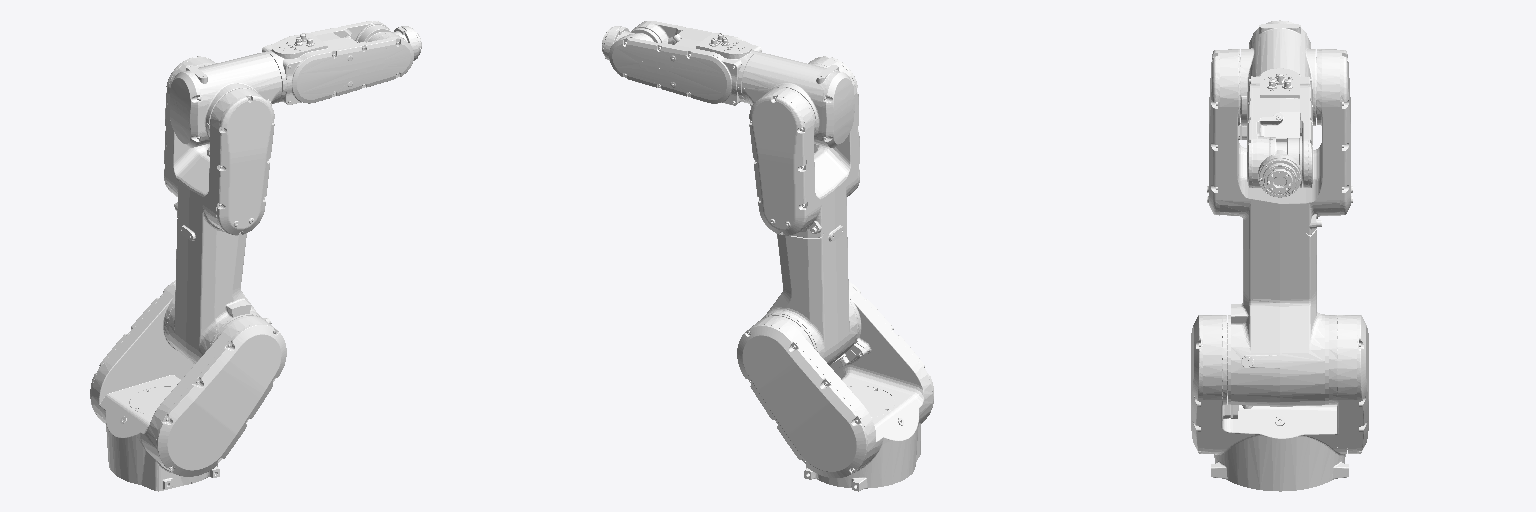
The robot description file, URDF, robot "IRB 1300-1150 URDF":
<?xml version="1.0" encoding="utf-8"?>
<!-- This URDF was automatically created by SolidWorks to URDF Exporter! Originally created by [author] ([email redacted]) 
     Commit Version: 1.6.0-4-g7f85cfe  Build Version: 1.6.7995.38578
     For more information, please see http://wiki.ros.org/sw_urdf_exporter -->
<robot
  name="IRB 1300-1150 URDF">
  <link
    name="base_link">
    <inertial>
      <origin
        xyz="-0.02201 -0.00063839 0.1276"
        rpy="0 0 0" />
      <mass
        value="13.182" />
      <inertia
        ixx="0.11154"
        ixy="-0.00041958"
        ixz="-0.0029321"
        iyy="0.12833"
        iyz="-3.0692E-05"
        izz="0.10399" />
    </inertial>
    <visual>
      <origin
        xyz="0 0 0"
        rpy="0 0 0" />
      <geometry>
        <mesh
          filename="package://IRB 1300-1150 URDF/meshes/base_link.STL" />
      </geometry>
      <material
        name="">
        <color
          rgba="1 1 1 1" />
      </material>
    </visual>
    <collision>
      <origin
        xyz="0 0 0"
        rpy="0 0 0" />
      <geometry>
        <mesh
          filename="package://IRB 1300-1150 URDF/meshes/base_link.STL" />
      </geometry>
    </collision>
  </link>
  <link
    name="Link1">
    <inertial>
      <origin
        xyz="0.0379140465011304 -0.00077346865336323 0.145882231183446"
        rpy="0 0 0" />
      <mass
        value="16.3325331099999" />
      <inertia
        ixx="0.174362024179828"
        ixy="0.0183368936461501"
        ixz="-0.0552544146231136"
        iyy="0.208069036216912"
        iyz="0.0360494323577949"
        izz="0.165549084912184" />
    </inertial>
    <visual>
      <origin
        xyz="0 0 0"
        rpy="0 0 0" />
      <geometry>
        <mesh
          filename="package://IRB 1300-1150 URDF/meshes/Link1.STL" />
      </geometry>
      <material
        name="">
        <color
          rgba="1 1 1 1" />
      </material>
    </visual>
    <collision>
      <origin
        xyz="0 0 0"
        rpy="0 0 0" />
      <geometry>
        <mesh
          filename="package://IRB 1300-1150 URDF/meshes/Link1.STL" />
      </geometry>
    </collision>
  </link>
  <joint
    name="Joint1"
    type="revolute">
    <origin
      xyz="0 0 0.254"
      rpy="0 0 0" />
    <parent
      link="base_link" />
    <child
      link="Link1" />
    <axis
      xyz="0 0 1" />
    <limit
      lower="-3.1416"
      upper="3.1416"
      effort="1"
      velocity="1" />
  </joint>
  <link
    name="Link2">
    <inertial>
      <origin
        xyz="-0.010943302471405 -0.000823452736931489 0.244958725841501"
        rpy="0 0 0" />
      <mass
        value="15.4405289883218" />
      <inertia
        ixx="0.454189406801351"
        ixy="0.000833807793902255"
        ixz="0.00519621446900202"
        iyy="0.446840533249867"
        iyz="0.0465559640262711"
        izz="0.0564311207928579" />
    </inertial>
    <visual>
      <origin
        xyz="0 0 0"
        rpy="0 0 0" />
      <geometry>
        <mesh
          filename="package://IRB 1300-1150 URDF/meshes/Link2.STL" />
      </geometry>
      <material
        name="">
        <color
          rgba="1 1 1 1" />
      </material>
    </visual>
    <collision>
      <origin
        xyz="0 0 0"
        rpy="0 0 0" />
      <geometry>
        <mesh
          filename="package://IRB 1300-1150 URDF/meshes/Link2.STL" />
      </geometry>
    </collision>
  </link>
  <joint
    name="Joint2"
    type="revolute">
    <origin
      xyz="0.15 0 0.29"
      rpy="0 0 0" />
    <parent
      link="Link1" />
    <child
      link="Link2" />
    <axis
      xyz="0 1 0" />
    <limit
      lower="-1.6581"
      upper="2.7053"
      effort="1"
      velocity="1" />
  </joint>
  <link
    name="Link3">
    <inertial>
      <origin
        xyz="0.00583162917002927 -0.00131958947797208 0.0114105778753493"
        rpy="0 0 0" />
      <mass
        value="4.41745625966426" />
      <inertia
        ixx="0.0147798858809225"
        ixy="-5.10577958981008E-05"
        ixz="-0.00147588390166233"
        iyy="0.0217907531368722"
        iyz="-0.000100030526636097"
        izz="0.0184719400306652" />
    </inertial>
    <visual>
      <origin
        xyz="0 0 0"
        rpy="0 0 0" />
      <geometry>
        <mesh
          filename="package://IRB 1300-1150 URDF/meshes/Link3.STL" />
      </geometry>
      <material
        name="">
        <color
          rgba="1 1 1 1" />
      </material>
    </visual>
    <collision>
      <origin
        xyz="0 0 0"
        rpy="0 0 0" />
      <geometry>
        <mesh
          filename="package://IRB 1300-1150 URDF/meshes/Link3.STL" />
      </geometry>
    </collision>
  </link>
  <joint
    name="Joint3"
    type="revolute">
    <origin
      xyz="0 0 0.575"
      rpy="0 0 0" />
    <parent
      link="Link2" />
    <child
      link="Link3" />
    <axis
      xyz="0 1 0" />
    <limit
      lower="-3.6652"
      upper="1.1345"
      effort="1"
      velocity="1" />
  </joint>
  <link
    name="Link4">
    <inertial>
      <origin
        xyz="0.140260635359611 -0.00136562560352289 0.00129646301386632"
        rpy="0 0 0" />
      <mass
        value="3.69431402699864" />
      <inertia
        ixx="0.00541702840019788"
        ixy="0.00158652277591609"
        ixz="8.51527721227943E-05"
        iyy="0.0298154184956188"
        iyz="-2.11291150182165E-05"
        izz="0.0280131784820624" />
    </inertial>
    <visual>
      <origin
        xyz="0 0 0"
        rpy="0 0 0" />
      <geometry>
        <mesh
          filename="package://IRB 1300-1150 URDF/meshes/Link4.STL" />
      </geometry>
      <material
        name="">
        <color
          rgba="1 1 1 1" />
      </material>
    </visual>
    <collision>
      <origin
        xyz="0 0 0"
        rpy="0 0 0" />
      <geometry>
        <mesh
          filename="package://IRB 1300-1150 URDF/meshes/Link4.STL" />
      </geometry>
    </collision>
  </link>
  <joint
    name="Joint4"
    type="revolute">
    <origin
      xyz="0.128 0 0.04"
      rpy="0 0 0" />
    <parent
      link="Link3" />
    <child
      link="Link4" />
    <axis
      xyz="1 0 0" />
    <limit
      lower="-4.0143"
      upper="4.0143"
      effort="1"
      velocity="1" />
  </joint>
  <link
    name="Link5">
    <inertial>
      <origin
        xyz="0.0204854339056124 0.00887681892988258 5.81633089897782E-05"
        rpy="0 0 0" />
      <mass
        value="0.585190237279786" />
      <inertia
        ixx="0.000493350438723821"
        ixy="6.25796891964945E-05"
        ixz="1.86941748612868E-06"
        iyy="0.000782731233621633"
        iyz="8.97144627802968E-08"
        izz="0.000725967580946081" />
    </inertial>
    <visual>
      <origin
        xyz="0 0 0"
        rpy="0 0 0" />
      <geometry>
        <mesh
          filename="package://IRB 1300-1150 URDF/meshes/Link5.STL" />
      </geometry>
      <material
        name="">
        <color
          rgba="1 1 1 1" />
      </material>
    </visual>
    <collision>
      <origin
        xyz="0 0 0"
        rpy="0 0 0" />
      <geometry>
        <mesh
          filename="package://IRB 1300-1150 URDF/meshes/Link5.STL" />
      </geometry>
    </collision>
  </link>
  <joint
    name="Joint5"
    type="revolute">
    <origin
      xyz="0.297 0 0"
      rpy="0 0 0" />
    <parent
      link="Link4" />
    <child
      link="Link5" />
    <axis
      xyz="0 1 0" />
    <limit
      lower="-2.2689"
      upper="2.2689"
      effort="1"
      velocity="1" />
  </joint>
  <link
    name="Link6">
    <inertial>
      <origin
        xyz="-0.0030397653842329 0.000141388062541223 7.719029081521E-05"
        rpy="0 0 0" />
      <mass
        value="0.00790032012561492" />
      <inertia
        ixx="3.06775217763411E-06"
        ixy="-4.44183698672834E-11"
        ixz="-2.42500450595015E-11"
        iyy="1.59968258334013E-06"
        iyz="-1.16947500504224E-08"
        izz="1.51446478201562E-06" />
    </inertial>
    <visual>
      <origin
        xyz="0 0 0"
        rpy="0 0 0" />
      <geometry>
        <mesh
          filename="package://IRB 1300-1150 URDF/meshes/Link6.STL" />
      </geometry>
      <material
        name="">
        <color
          rgba="1 1 1 1" />
      </material>
    </visual>
    <collision>
      <origin
        xyz="0 0 0"
        rpy="0 0 0" />
      <geometry>
        <mesh
          filename="package://IRB 1300-1150 URDF/meshes/Link6.STL" />
      </geometry>
    </collision>
  </link>
  <joint
    name="Joint6"
    type="revolute">
    <origin
      xyz="0.0900000000000001 0 0"
      rpy="0 0 0" />
    <parent
      link="Link5" />
    <child
      link="Link6" />
    <axis
      xyz="1 0 0" />
    <limit
      lower="-4.2237"
      upper="4.2237"
      effort="1"
      velocity="1" />
  </joint>
</robot>

--- What the picture shows (computed from the rendered views, not written in the file) ---
The picture shows the robot from 3 angles, left to right: view 1: azimuth 30°, elevation 25°; view 2: azimuth 150°, elevation 25°; view 3: azimuth 270°, elevation 25°; orthographic projection.
Robot: IRB 1300-1150 URDF — 7 links, 6 joints (6 revolute); root link base_link; default pose: every joint at zero.
Links seen in each view (by area): view 1: Link1, Link2, Link4, Link3, Link5; view 2: Link1, Link2, Link4, Link3, Link5; view 3: Link2, Link1, Link4, Link3, Link5.
Link boxes in pixels (x1,y1,x2,y2): Link1: [90, 280, 286, 491]; Link2: [164, 56, 274, 363]; Link4: [262, 21, 413, 104]; Link3: [170, 52, 281, 147]; Link5: [355, 23, 420, 60]; Link1: [737, 282, 933, 491]; Link2: [749, 56, 859, 365]; Link4: [609, 21, 761, 105]; Link3: [742, 52, 854, 147]; Link5: [602, 26, 660, 60]; Link2: [1207, 49, 1352, 408]; Link1: [1191, 315, 1368, 491]; Link4: [1247, 68, 1312, 187]; Link3: [1240, 20, 1316, 125]; Link5: [1258, 136, 1301, 197].
Size in the robot's own frame: 0.7957 by 0.34 by 0.9901 metres.
Meshes: 7 distinct files referenced, 6 mesh visuals loaded (6 binary STL); not drawn: 1 (reference not matched to a file when rendering).